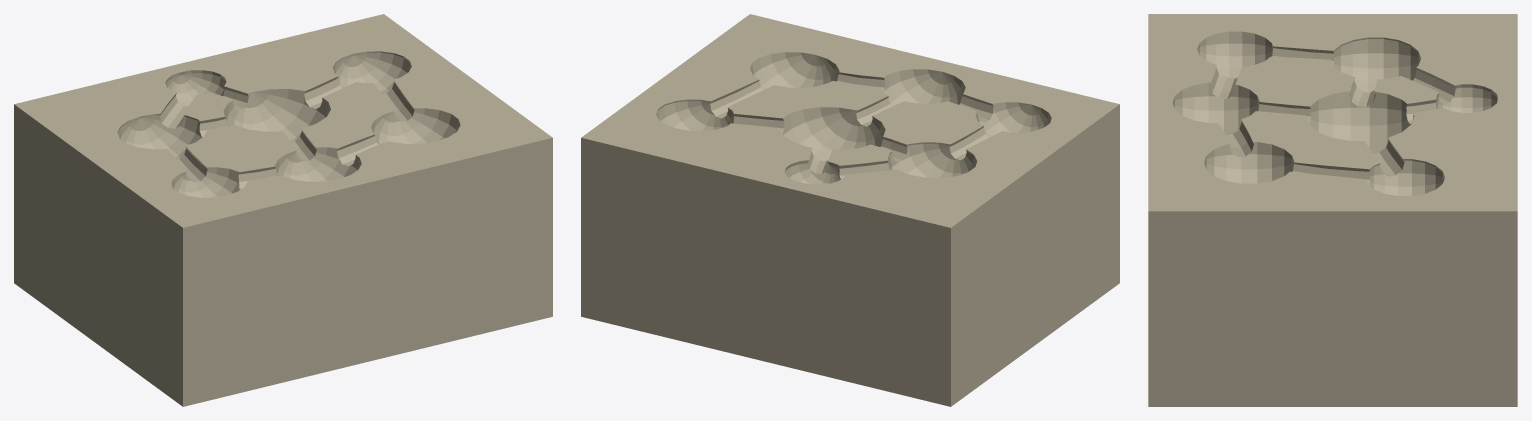
File: entobia-sponge-boring-network.glb
3 renders of one model, left to right at view 1: azimuth 30°, elevation 25°; view 2: azimuth 150°, elevation 25°; view 3: azimuth 270°, elevation 25°, orthographic. The views are drawn at different scales.
Parts seen in each view (by area): view 1: carbonate-section-with-true-interconnected-chamber-and-galle; view 2: carbonate-section-with-true-interconnected-chamber-and-galle; view 3: carbonate-section-with-true-interconnected-chamber-and-galle.
Part boxes in pixels (bbox=[...]): carbonate-section-with-true-interconnected-chamber-and-galle: bbox=[14, 14, 552, 406]; carbonate-section-with-true-interconnected-chamber-and-galle: bbox=[581, 14, 1119, 406]; carbonate-section-with-true-interconnected-chamber-and-galle: bbox=[1148, 14, 1517, 406].
Size of the model in its own units: 0.24 by 0.111 by 0.19.
